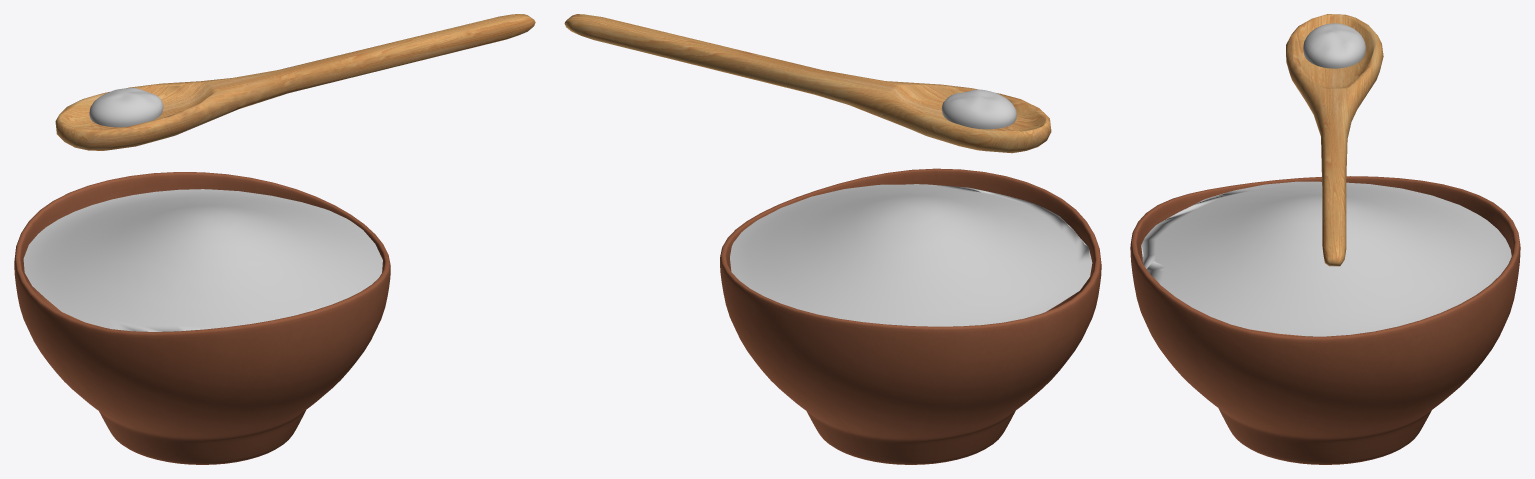
Rendered from salt_bowl_garum.fbx.
The picture shows the model from 3 angles, left to right: view 1: azimuth 30°, elevation 25°; view 2: azimuth 150°, elevation 25°; view 3: azimuth 270°, elevation 25°; orthographic projection. The views are drawn at different scales.
Visible parts, largest first — view 1: dolium, Salt, Wooden Spoon, Spoon Salt; view 2: dolium, Salt, Wooden Spoon, Spoon Salt; view 3: dolium, Salt, Wooden Spoon, Spoon Salt.
Part boxes in pixels (x1,y1,x2,y2): dolium: (14,172,390,464); Salt: (23,189,382,331); Wooden Spoon: (55,14,535,150); Spoon Salt: (89,88,163,127); dolium: (720,168,1101,464); Salt: (730,184,1092,326); Wooden Spoon: (564,14,1051,153); Spoon Salt: (941,89,1016,129); dolium: (1130,176,1520,464); Salt: (1141,181,1511,336); Wooden Spoon: (1286,14,1383,266); Spoon Salt: (1303,23,1365,68).
Size of the model in its own units: 95.28 by 63.82 by 62.77.
